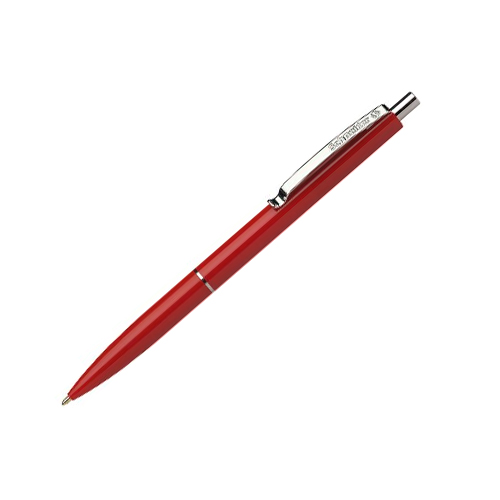Boligrafo: (58, 85, 423, 410)
